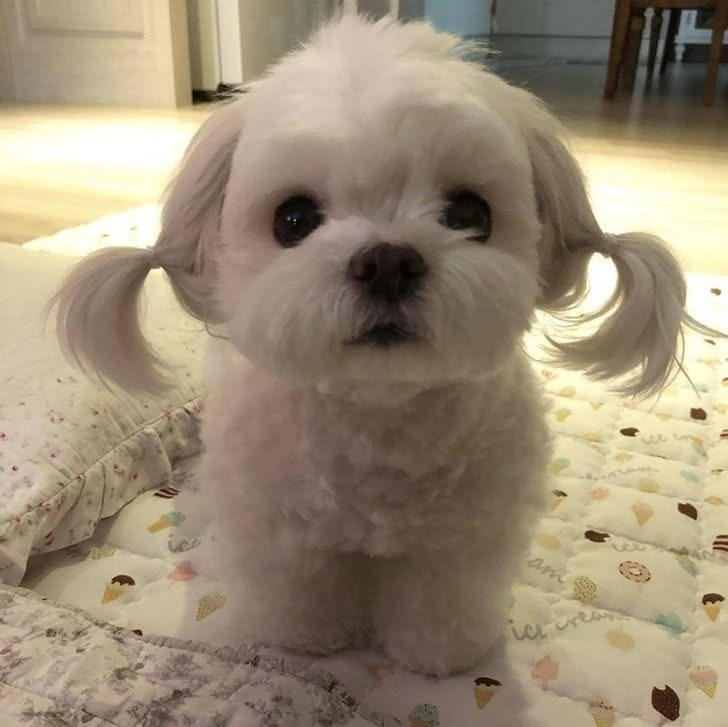adult_dog: (49, 10, 713, 681)
